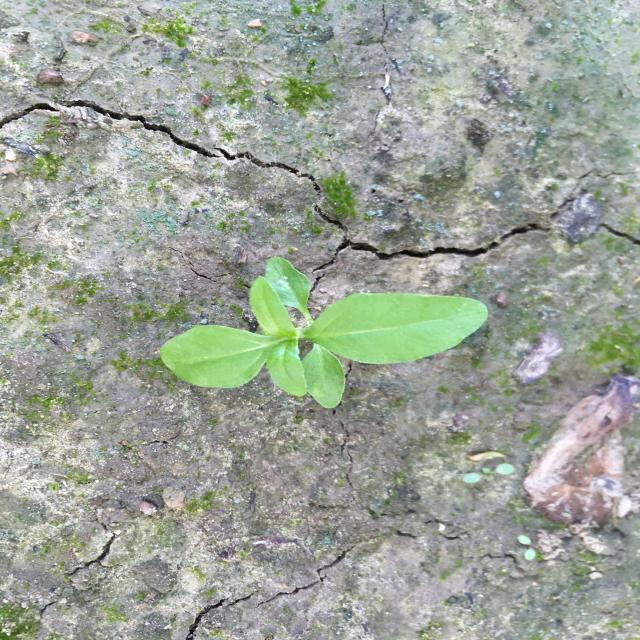Eclipta: (158, 255, 491, 410)
